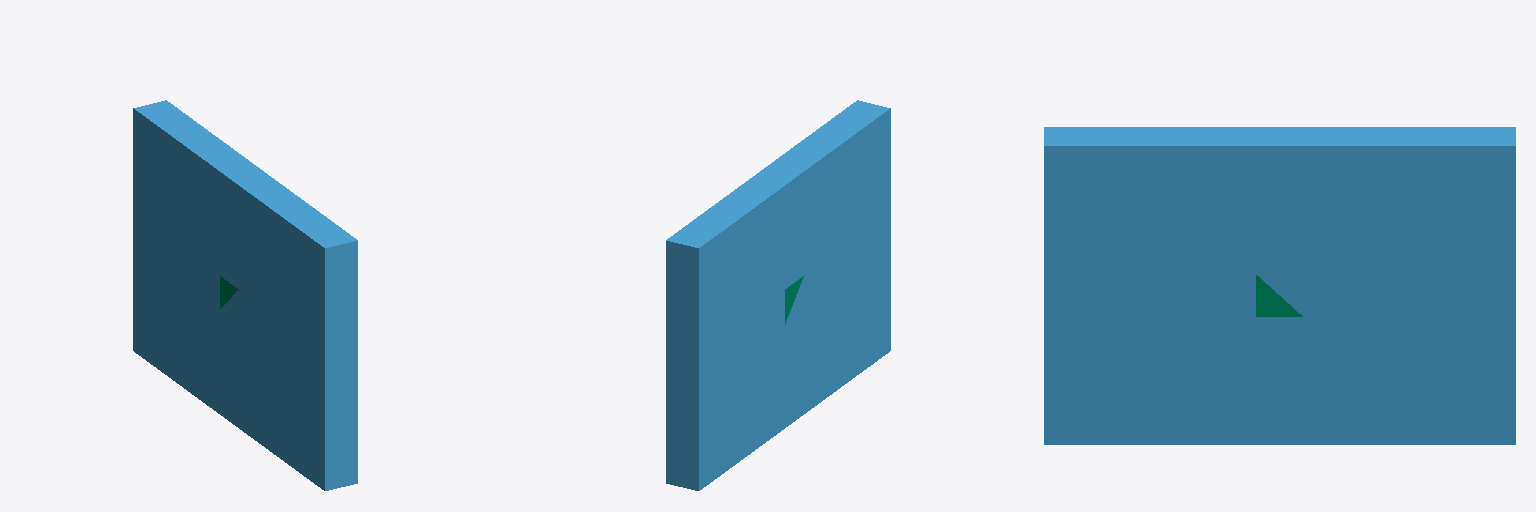
The robot description file, URDF, robot "U-CAT":
<?xml version="1.0"?>
<robot name="U-CAT">
	<link name="base_link">
		<visual>
			<geometry>
				<mesh filename="package://uwsim_arrows/data/meshes/ArrowsBody.ive"/>
        	</geometry>
		</visual>
		<collision>
			<geometry>
				<cylinder radius="0.35" length="0.30" />
			</geometry>
		</collision>
	</link>
	
	<!-- motor 1 -->
	<link name="frontrightflipper">
		<visual>
			<origin rpy="0 0 0" xyz="-0.092 0.06 0" />
			<geometry>
				<mesh filename="package://uwsim_arrows/data/meshes/ArrowsFin.ive"/>
        	</geometry>
		</visual>
	</link>
	
	<!-- motor 2 -->
	<link name="backrightflipper">
		<visual>
			<origin rpy="0 0 0" xyz="-0.092 0.06 0" />
			<geometry>
				<mesh filename="package://uwsim_arrows/data/meshes/ArrowsFin.ive"/>
        	</geometry>
		</visual>
	</link>
	
	<!-- motor 3 -->
	<link name="backleftflipper">
		<visual>
			<origin rpy="0 0 0" xyz="-0.092 0.06 0" />
			<geometry>
				<mesh filename="package://uwsim_arrows/data/meshes/ArrowsFin.ive"/>
        	</geometry>
		</visual>
	</link>
	
	<!-- motor 4 -->
	<link name="frontleftflipper">
		<visual>
			<origin rpy="0 0 0" xyz="-0.092 0.06 0" />
			<geometry>
				<mesh filename="package://uwsim_arrows/data/meshes/ArrowsFin.ive"/>
        	</geometry>
		</visual>
	</link>
	
	<!-- sonars -->
	<link name="sonar_b">
		<visual>
			<geometry>
				<mesh filename="package://uwsim_arrows/data/meshes/Sonar.ive"/>
        	</geometry>
		</visual>
	</link>
	<link name="sonar_ff">
		<visual>
			<geometry>
				<mesh filename="package://uwsim_arrows/data/meshes/Sonar.ive"/>
        	</geometry>
		</visual>
	</link>
	<link name="sonar_fl">
		<visual>
			<geometry>
				<mesh filename="package://uwsim_arrows/data/meshes/Sonar.ive"/>
        	</geometry>
		</visual>
	</link>
	<link name="sonar_fr">
		<visual>
			<geometry>
				<mesh filename="package://uwsim_arrows/data/meshes/Sonar.ive"/>
        	</geometry>
		</visual>
	</link>
	<link name="sonar_fu">
		<visual>
			<geometry>
				<mesh filename="package://uwsim_arrows/data/meshes/Sonar.ive"/>
        	</geometry>
		</visual>
	</link>
	<link name="sonar_fd">
		<visual>
			<geometry>
				<mesh filename="package://uwsim_arrows/data/meshes/Sonar.ive"/>
        	</geometry>
		</visual>
	</link>
	<link name="sonar_l">
		<visual>
			<geometry>
				<mesh filename="package://uwsim_arrows/data/meshes/Sonar.ive"/>
        	</geometry>
		</visual>
	</link>
	<link name="sonar_r">
		<visual>
			<geometry>
				<mesh filename="package://uwsim_arrows/data/meshes/Sonar.ive"/>
        	</geometry>
		</visual>
	</link>

	<!-- narrow sonars -->
	
	<link name="sonar_ff_0_0">
		<visual>
			<geometry>
				<box size="0.0 0.0 0.0"/>
        	</geometry>
		</visual>
	</link>
	
	<link name="sonar_ff_0_6">
		<visual>
			<geometry>
				<box size="0.0 0.0 0.0"/>
        	</geometry>
		</visual>
	</link>

	<link name="sonar_ff_6_6">
		<visual>
			<geometry>
				<box size="0.0 0.0 0.0"/>
        	</geometry>
		</visual>
	</link>
	
	<link name="sonar_ff_6_0">
		<visual>
			<geometry>
				<box size="0.0 0.0 0.0"/>
        	</geometry>
		</visual>
	</link>
	
	<link name="sonar_ff_0_3">
		<visual>
			<geometry>
				<box size="0.0 0.0 0.0"/>
        	</geometry>
		</visual>
	</link>
	<link name="sonar_ff_2_3">
		<visual>
			<geometry>
				<box size="0.0 0.0 0.0"/>
        	</geometry>
		</visual>
	</link>
	<link name="sonar_ff_4_3">
		<visual>
			<geometry>
				<box size="0.0 0.0 0.0"/>
        	</geometry>
		</visual>
	</link>
	<link name="sonar_ff_6_3">
		<visual>
			<geometry>
				<box size="0.0 0.0 0.0"/>
        	</geometry>
		</visual>
	</link>
	
	<link name="sonar_ff_3_0">
		<visual>
			<geometry>
				<box size="0.0 0.0 0.0"/>
        	</geometry>
		</visual>
	</link>
	<link name="sonar_ff_3_2">
		<visual>
			<geometry>
				<box size="0.0 0.0 0.0"/>
        	</geometry>
		</visual>
	</link>
	<link name="sonar_ff_3_4">
		<visual>
			<geometry>
				<box size="0.0 0.0 0.0"/>
        	</geometry>
		</visual>
	</link>
	<link name="sonar_ff_3_6">
		<visual>
			<geometry>
				<box size="0.0 0.0 0.0"/>
        	</geometry>
		</visual>
	</link>
		
	<!-- camera -->
	
	<link name="camera_link">
		<visual>
			<geometry>
				<box size="0.01 0.10 0.07"/>
        	</geometry>
		</visual>
	</link>
	
	<link name="camera_link_optical">
		<visual>
			<geometry>
				<box size="0.01 0.01 0.01"/>
        	</geometry>
		</visual>
	</link>
	
	<!-- joints, START COPYING FROM HERE -->
	
	<joint name="baselink_to_frontrightflipper" type="continuous">
		<parent link="base_link" />
		<child link="frontrightflipper" />
		<origin rpy="0 3.14159 -2.61799388" xyz="0.226 -0.096 0" />
		<axis xyz="0 1 0" />
	</joint>

	<joint name="baselink_to_backrightflipper" type="continuous">
		<parent link="base_link" />
		<child link="backrightflipper" />
		<origin rpy="0 3.14159 2.61799388" xyz="-0.226 -0.096 0" />
		<axis xyz="0 1 0" />
	</joint>
	
	<joint name="baselink_to_backleftflipper" type="continuous">
		<parent link="base_link" />
		<child link="backleftflipper" />
		<origin rpy="0 0 0.523598776" xyz="-0.226 0.096 0" />
		<axis xyz="0 1 0" />
	</joint>
	
	<joint name="baselink_to_frontleftflipper" type="continuous">
		<parent link="base_link" />
		<child link="frontleftflipper" />
		<origin rpy="0 0 -0.523598776" xyz="0.226 0.096 0" />
		<axis xyz="0 1 0" />
	</joint>
	
	<joint name="baselink_to_camera_link" type="fixed">
		<parent link="base_link" />
		<child link="camera_link" />
		<!-- OLD VERSION-->
		<!-- <origin rpy="0 0.8 0" xyz="0.24 0 -0.07" />   -->
		<origin rpy="0 0.0 0" xyz="0.24 0 -0.07" />
	</joint>

	<joint name="camera_rgb_optical_joint" type="fixed">
		<origin xyz="0 0 0" rpy="-1.57 0 -1.57" />
		<parent link="camera_link" />
		<child link="camera_link_optical" />
	</joint>
	
	<joint name="baselink_to_sonar_b" type="fixed">
		<parent link="base_link" />
		<child link="sonar_b" />
		<origin rpy="0 0 3.14159" xyz="-0.28 0 0" />
	</joint>
	
	<joint name="baselink_to_sonar_ff" type="fixed">
		<parent link="base_link" />
		<child link="sonar_ff" />
		<origin rpy="0 0 0" xyz="0.28 0 0" />
	</joint>
	
	<joint name="baselink_to_sonar_fl" type="fixed">
		<parent link="base_link" />
		<child link="sonar_fl" />
		<origin rpy="0 0 0.559" xyz="0.263 0.057 0" />
	</joint>
	
	<joint name="baselink_to_sonar_fr" type="fixed">
		<parent link="base_link" />
		<child link="sonar_fr" />
		<origin rpy="0 0 -0.559" xyz="0.263 -0.057 0" />
	</joint>
	
	<joint name="baselink_to_sonar_fu" type="fixed">
		<parent link="base_link" />
		<child link="sonar_fu" />
		<origin rpy="0 -1.57 0" xyz="0.20 0 0.10" />
	</joint>
	
	<joint name="baselink_to_sonar_fd" type="fixed">
		<parent link="base_link" />
		<child link="sonar_fd" />
		<origin rpy="0 1.57 0" xyz="-0.20 0 -0.10" />
	</joint>
	
	<joint name="baselink_to_sonar_l" type="fixed">
		<parent link="base_link" />
		<child link="sonar_l" />
		<origin rpy="0 0 1.57" xyz="0 0.165 0" />
	</joint>
	
	<joint name="baselink_to_sonar_r" type="fixed">
		<parent link="base_link" />
		<child link="sonar_r" />
		<origin rpy="0 0 -1.57" xyz="0 -0.165 0" />
	</joint>


<!-- horizontal array -->
	<joint name="baselink_to_sonar_ff_0_3" type="fixed">
		<parent link="base_link" />
		<child link="sonar_ff_0_3" />
		<origin rpy="0 0 0.785398163" xyz="0.28 0 0" />
	</joint>	
	<joint name="baselink_to_sonar_ff_2_3" type="fixed">
		<parent link="base_link" />
		<child link="sonar_ff_2_3" />
		<origin rpy="0 0 0.261799388" xyz="0.28 0 0" />
	</joint>
	<joint name="baselink_to_sonar_ff_4_3" type="fixed">
		<parent link="base_link" />
		<child link="sonar_ff_4_3" />
		<origin rpy="0 0 -0.261799388" xyz="0.28 0 0" />
	</joint>
	<joint name="baselink_to_sonar_ff_6_3" type="fixed">
		<parent link="base_link" />
		<child link="sonar_ff_6_3" />
		<origin rpy="0 0 -0.785398163" xyz="0.28 0 0" />
	</joint>
	
	<joint name="baselink_to_sonar_ff_3_2" type="fixed">
		<parent link="base_link" />
		<child link="sonar_ff_3_2" />
		<origin rpy="0 -0.261799388 0" xyz="0.28 0 0" />
	</joint>
	<joint name="baselink_to_sonar_ff_3_0" type="fixed">
		<parent link="base_link" />
		<child link="sonar_ff_3_0" />
		<origin rpy="0 -0.785398163 0" xyz="0.28 0 0" />
	</joint>
	
	<joint name="baselink_to_sonar_ff_3_4" type="fixed">
		<parent link="base_link" />
		<child link="sonar_ff_3_4" />
		<origin rpy="0 0.261799388 0" xyz="0.28 0 0" />
	</joint>
	<joint name="baselink_to_sonar_ff_3_6" type="fixed">
		<parent link="base_link" />
		<child link="sonar_ff_3_6" />
		<origin rpy="0 0.785398163 0" xyz="0.28 0 0" />
	</joint>
	
	<joint name="baselink_to_sonar_ff_0_6" type="fixed">
		<parent link="base_link" />
		<child link="sonar_ff_0_6" />
		<origin rpy="0 0.65 0.65" xyz="0.28 0 0" />
	</joint>
	<joint name="baselink_to_sonar_ff_0_0" type="fixed">
		<parent link="base_link" />
		<child link="sonar_ff_0_0" />
		<origin rpy="0 -0.65 0.65" xyz="0.28 0 0" />
	</joint>
	<joint name="baselink_to_sonar_ff_6_6" type="fixed">
		<parent link="base_link" />
		<child link="sonar_ff_6_6" />
		<origin rpy="0 0.65 -0.65" xyz="0.28 0 0" />
	</joint>
	<joint name="baselink_to_sonar_ff_6_0" type="fixed">
		<parent link="base_link" />
		<child link="sonar_ff_6_0" />
		<origin rpy="0 -0.65 -00.65" xyz="0.28 0 0" />
	</joint>
	
</robot>

--- What the picture shows (computed from the rendered views, not written in the file) ---
The picture shows the robot from 3 angles, left to right: view 1: azimuth 30°, elevation 25°; view 2: azimuth 150°, elevation 25°; view 3: azimuth 270°, elevation 25°; orthographic projection.
Model U-CAT with 27 links and 26 joints (4 continuous, 22 fixed), rooted at base_link, posed every joint at zero.
Links seen in each view (by area): view 1: camera_link; view 2: camera_link; view 3: camera_link, camera_link_optical.
Link boxes in pixels (x1,y1,x2,y2): camera_link: (133, 100, 357, 490); camera_link: (666, 100, 890, 490); camera_link: (1044, 127, 1515, 444); camera_link_optical: (1256, 275, 1302, 316).
Size in the robot's own frame: 0.045 by 0.1 by 0.105 metres.
Meshes: 3 distinct files referenced, 0 mesh visuals loaded (none loaded); not drawn: 13 (reference not matched to a file when rendering).